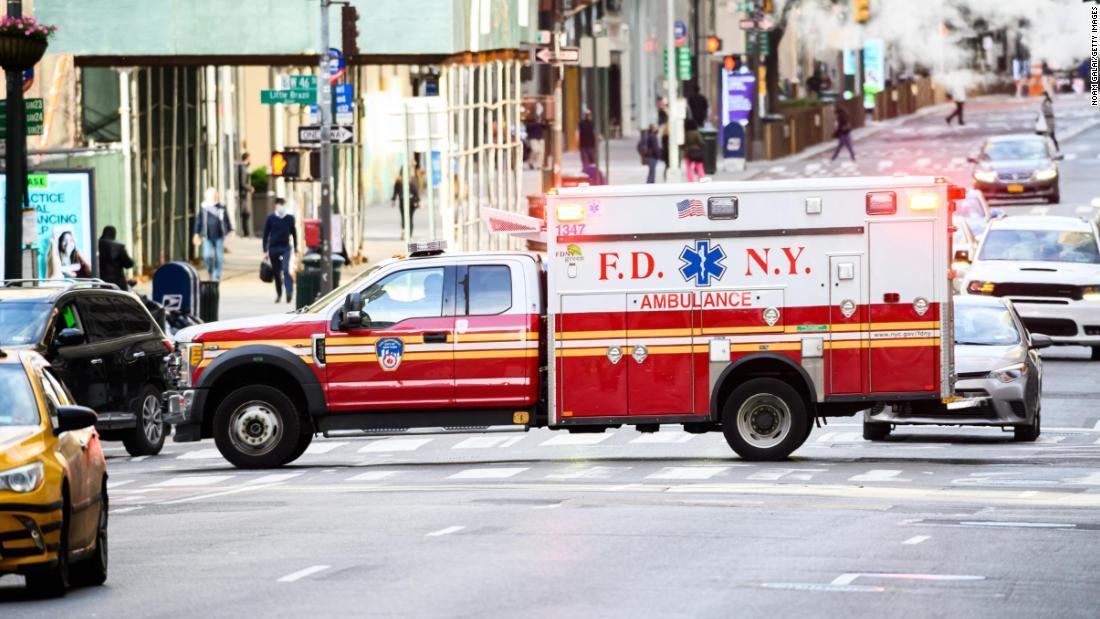Fire-engine: (163, 177, 950, 470)
